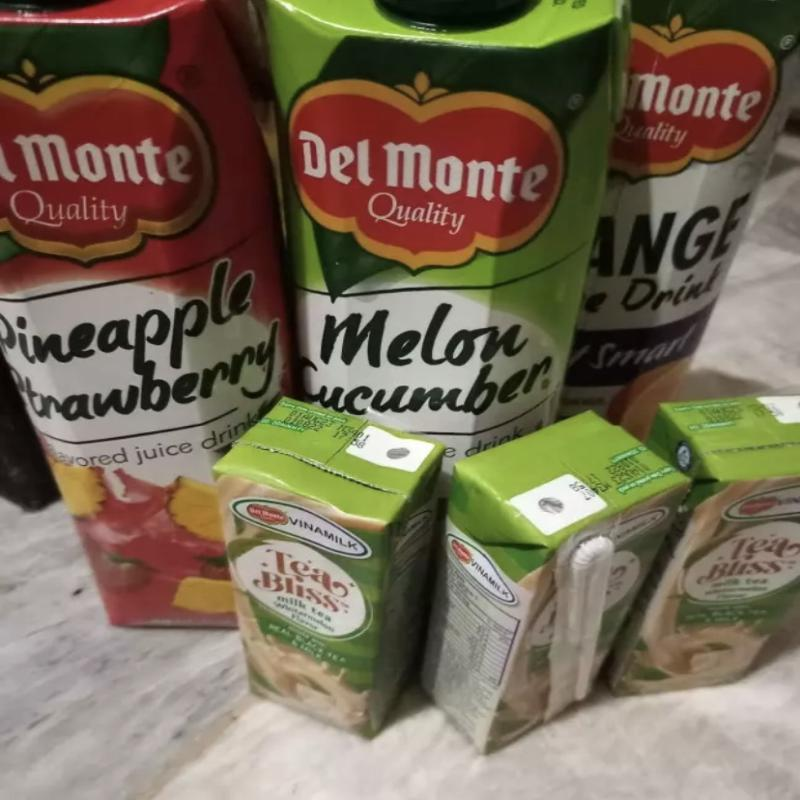plastic straw: (252, 0, 629, 457), (558, 0, 800, 442), (609, 396, 800, 699), (544, 535, 614, 722)
uht carton: (420, 411, 692, 756), (213, 397, 445, 741)
